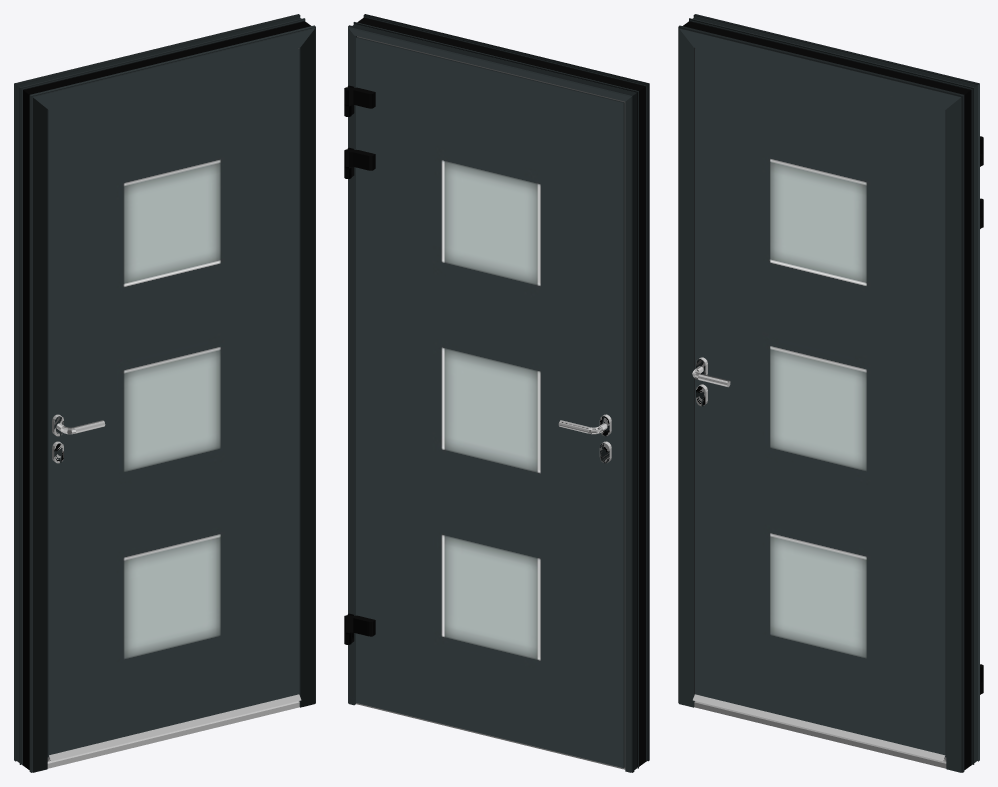
3 renders of one model, left to right at view 1: azimuth 30°, elevation 25°; view 2: azimuth 150°, elevation 25°; view 3: azimuth 330°, elevation 25°, orthographic.
Parts seen in each view (by area): view 1: ouvrant, 105; view 2: ouvrant, 105; view 3: ouvrant, 105.
Part boxes in pixels (bbox=[...]): ouvrant: bbox=[47, 48, 301, 761]; 105: bbox=[14, 14, 315, 772]; ouvrant: bbox=[344, 36, 625, 768]; 105: bbox=[344, 14, 649, 772]; ouvrant: bbox=[693, 48, 983, 761]; 105: bbox=[678, 14, 983, 772].
Bounding box in the file's own units: 96 × 218 × 24.64.
1 material, 1 textured.
